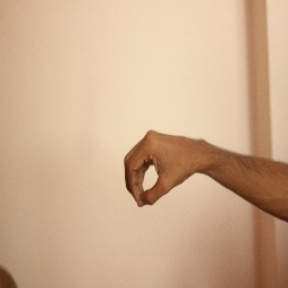O: (122, 127, 205, 212)
